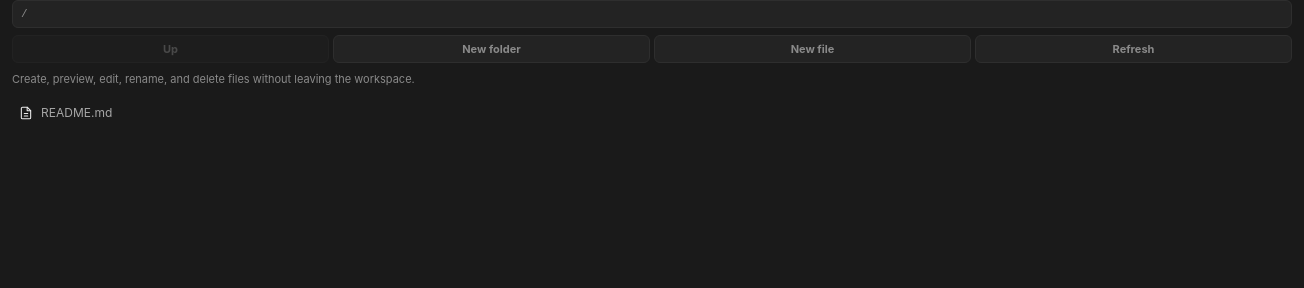
Scenario: WorkspaceFilePanel - Folder Operations Unit Tests › Folder selection navigates into folder (Requirement 4.1, 4.2, 4.3) › should not navigate when file entry is clicked
Check: the text "README.md" is shown, box [41, 105, 112, 120]
// Click on file (should not navigate)
Click the button "README.md" at (77, 112), box [12, 96, 1292, 130]
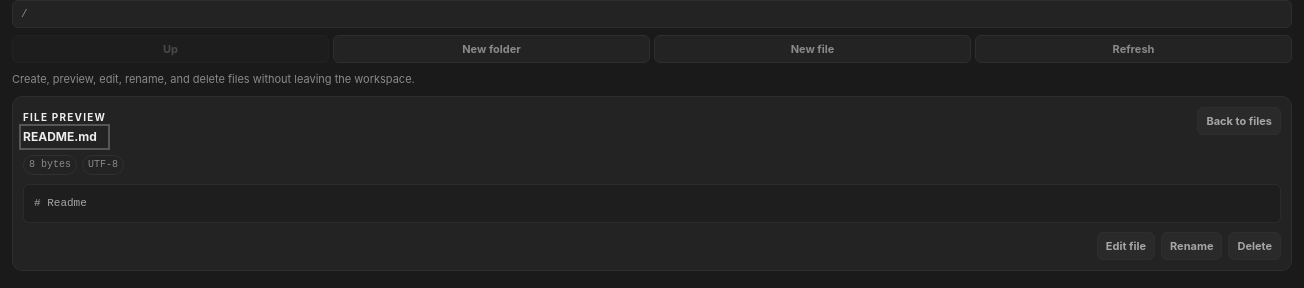
Check: the text "/" is shown, box [12, 0, 1292, 28]
Check: the text "# Readme" is shown, box [23, 184, 1281, 223]
